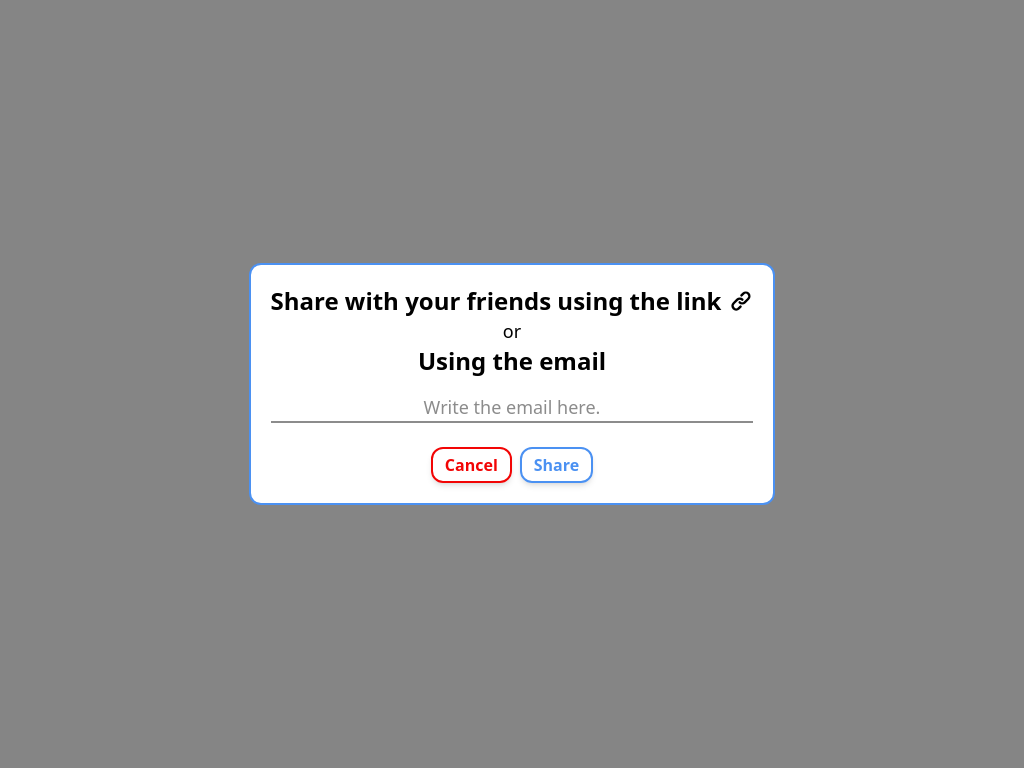
Test: Modal component tests › Should show a warning message for an invalid email
Type "invalid-email" into the field with placeholder "Write the email here." at (512, 408), box [270,393,754,423]
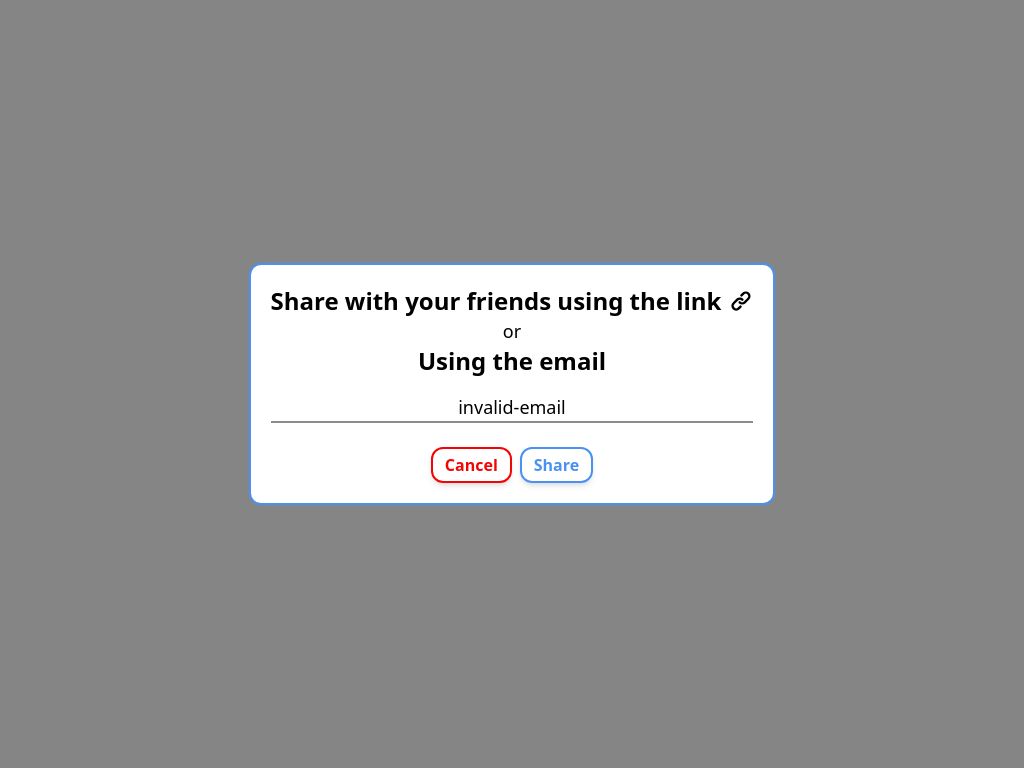
Click the button "Share" at (556, 465), box [520,447,593,483]
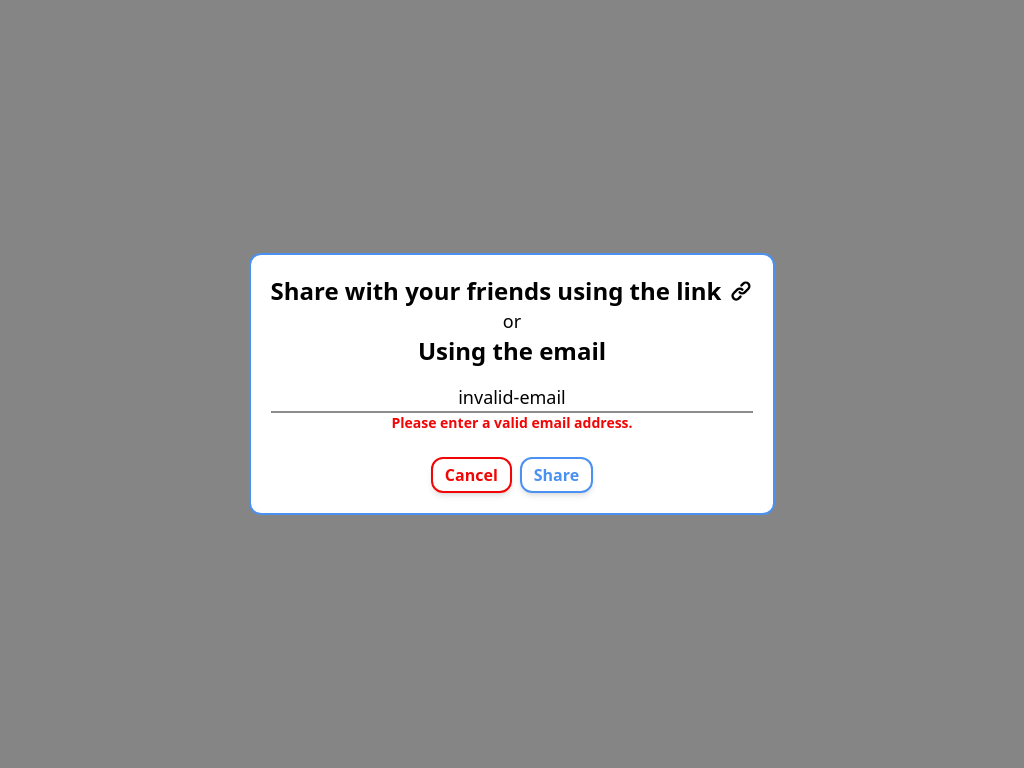
Expected: the text "Please enter a valid email address." is shown, [391,413,632,433]
